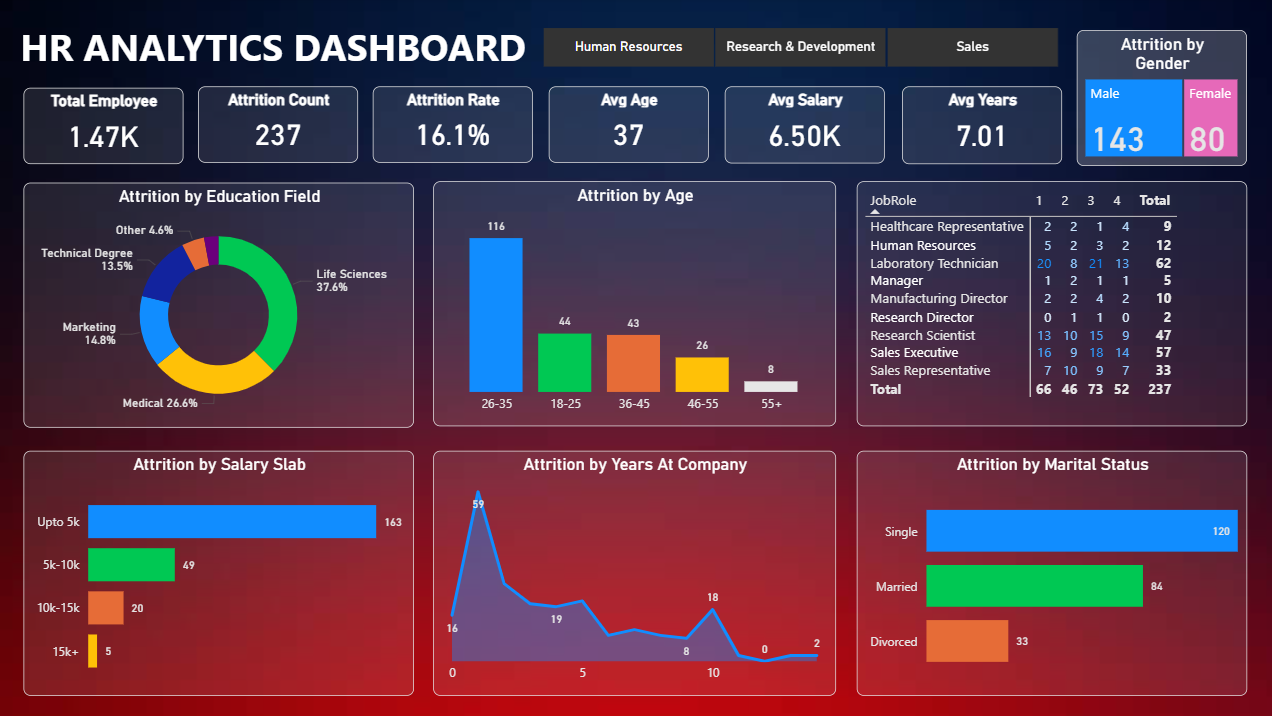

Layout of this report page (visuals, bound fields, positions):
{"tool":"powerbi","page":{"name":"Page 1","canvas":[1280,720],"ordinal":0},"visuals":[{"type":"cardVisual","title":"Total Employee","fields":{"Data":["CountNonNull(HR_Analytics.EmpID)"]},"box":[27.3,90.9,160,76.4],"z":0},{"type":"cardVisual","title":"Attrition Count","fields":{"Data":["Sum(HR_Analytics.AttritionCount)"]},"box":[202.1,90,160,76.4],"z":1000},{"type":"cardVisual","title":"Avg Age","fields":{"Data":["Avg(HR_Analytics.Age)"]},"box":[552.9,89.3,160,76.4],"z":2000},{"type":"cardVisual","title":"Avg Salary","fields":{"Data":["Avg(HR_Analytics.MonthlyIncome)"]},"box":[729.3,89.3,160,77.1],"z":3000},{"type":"cardVisual","title":"Avg Years","fields":{"Data":["Avg(HR_Analytics.YearsAtCompany)"]},"box":[905.7,89.3,160,77.9],"z":4000},{"type":"cardVisual","title":"Attrition Rate","fields":{"Data":["HR_Analytics.AttritionRate"]},"box":[377.1,89.3,160,76.4],"z":5000},{"type":"donutChart","title":"Attrition by Education Field","fields":{"Category":["HR_Analytics.EducationField"],"Y":["Sum(HR_Analytics.AttritionCount)"]},"box":[27.5,185.7,390.6,245],"z":6000},{"type":"columnChart","title":"Attrition by Age","fields":{"Category":["HR_Analytics.AgeGroup"],"Y":["Sum(HR_Analytics.AttritionCount)"]},"box":[437.3,184.3,403,245],"z":7000},{"type":"pivotTable","fields":{"Rows":["HR_Analytics.JobRole"],"Columns":["HR_Analytics.JobSatisfaction"],"Values":["Sum(HR_Analytics.AttritionCount)"]},"box":[860.9,184.3,390.6,245],"z":8000},{"type":"barChart","title":"Attrition by Salary Slab","fields":{"Category":["HR_Analytics.SalarySlab"],"Y":["Sum(HR_Analytics.AttritionCount)"]},"box":[27.5,453.8,390.6,244.8],"z":9000},{"type":"barChart","title":"Attrition by Marital Status","fields":{"Category":["HR_Analytics.MaritalStatus"],"Y":["Sum(HR_Analytics.AttritionCount)"]},"box":[860.9,453.8,390.6,244.8],"z":10000},{"type":"areaChart","title":"Attrition by Years At Company","fields":{"Category":["HR_Analytics.YearsAtCompany"],"Y":["Sum(HR_Analytics.AttritionCount)"]},"box":[437.3,453.8,403,244.8],"z":11000},{"type":"treemap","title":"Attrition by Gender","fields":{"Group":["HR_Analytics.Gender"],"Values":["Sum(HR_Analytics.AttritionCount)"]},"box":[1081.4,32.9,170,135.7],"z":12000},{"type":"slicer","fields":{"Values":["HR_Analytics.Department"]},"box":[526.7,28.9,554.2,42.6],"z":13000},{"type":"textbox","box":[19.3,19.3,581.7,63.3],"z":14000}]}

Visuals, with their boxes in screenshot pixels (x1, y1, x2, y2), scaled from the page's 1280x720 canvas onto the 1272x716 screenshot:
"Total Employee" cardVisual: x1=27 y1=90 x2=186 y2=166
"Attrition Count" cardVisual: x1=201 y1=90 x2=360 y2=165
"Avg Age" cardVisual: x1=549 y1=89 x2=708 y2=165
"Avg Salary" cardVisual: x1=725 y1=89 x2=884 y2=165
"Avg Years" cardVisual: x1=900 y1=89 x2=1059 y2=166
"Attrition Rate" cardVisual: x1=375 y1=89 x2=534 y2=165
"Attrition by Education Field" donutChart: x1=27 y1=185 x2=415 y2=428
"Attrition by Age" columnChart: x1=435 y1=183 x2=835 y2=427
pivotTable - HR_Analytics.JobRole x HR_Analytics.JobSatisfaction: x1=856 y1=183 x2=1244 y2=427
"Attrition by Salary Slab" barChart: x1=27 y1=451 x2=415 y2=695
"Attrition by Marital Status" barChart: x1=856 y1=451 x2=1244 y2=695
"Attrition by Years At Company" areaChart: x1=435 y1=451 x2=835 y2=695
"Attrition by Gender" treemap: x1=1075 y1=33 x2=1244 y2=168
slicer - HR_Analytics.Department: x1=523 y1=29 x2=1074 y2=71
textbox: x1=19 y1=19 x2=597 y2=82
